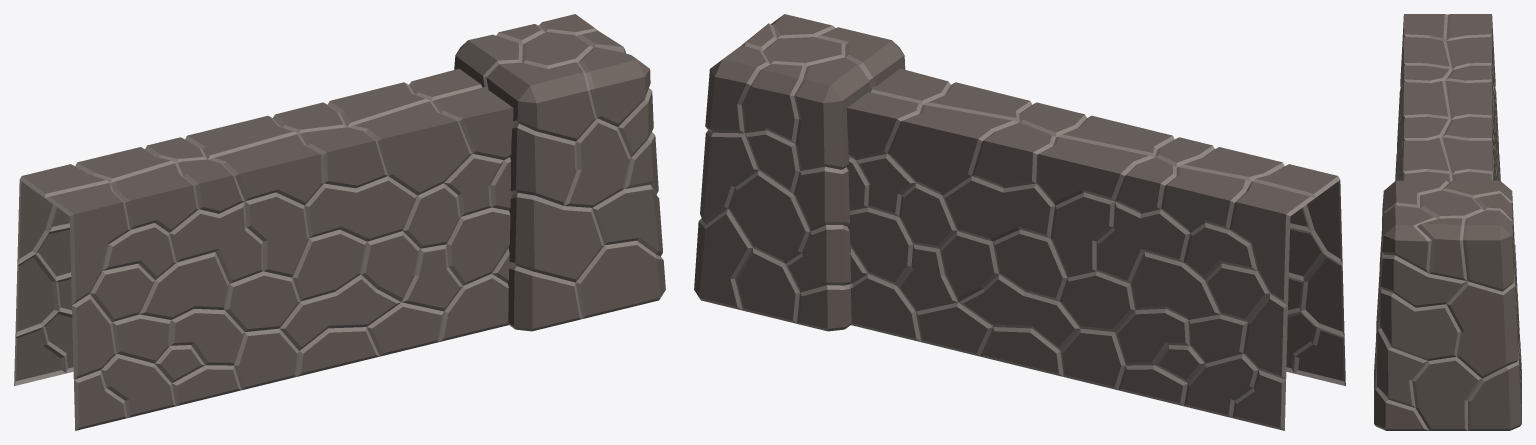
File: Basement_Medium.fbx
3 renders of one model, left to right at view 1: azimuth 30°, elevation 25°; view 2: azimuth 150°, elevation 25°; view 3: azimuth 270°, elevation 25°, orthographic. The views are drawn at different scales.
Visible parts, largest first — view 1: Basement_Medium; view 2: Basement_Medium; view 3: Basement_Medium.
Boxes of the visible parts, left/top/right/bottom form: Basement_Medium: left=14, top=14, right=665, bottom=430; Basement_Medium: left=694, top=14, right=1345, bottom=430; Basement_Medium: left=1374, top=14, right=1521, bottom=430.
Bounding box in the file's own units: 2.76 × 0.7186 × 1.07.
